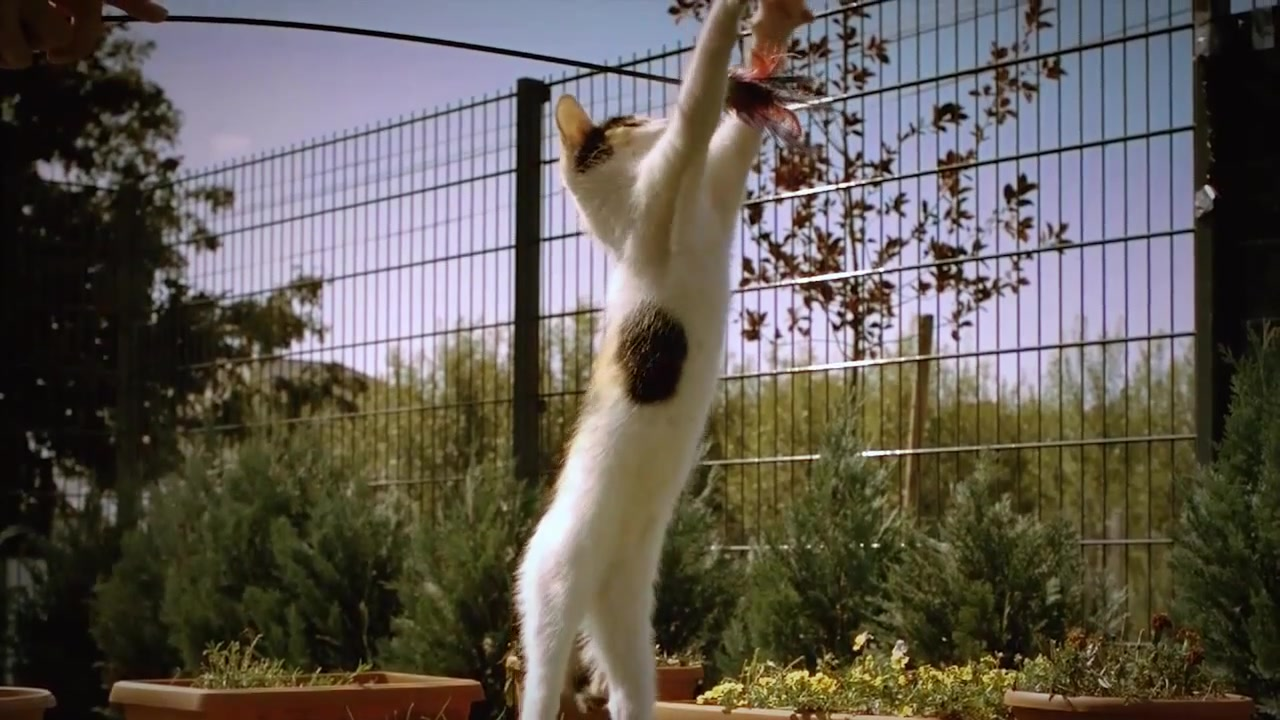cat: (508, 4, 816, 719)
